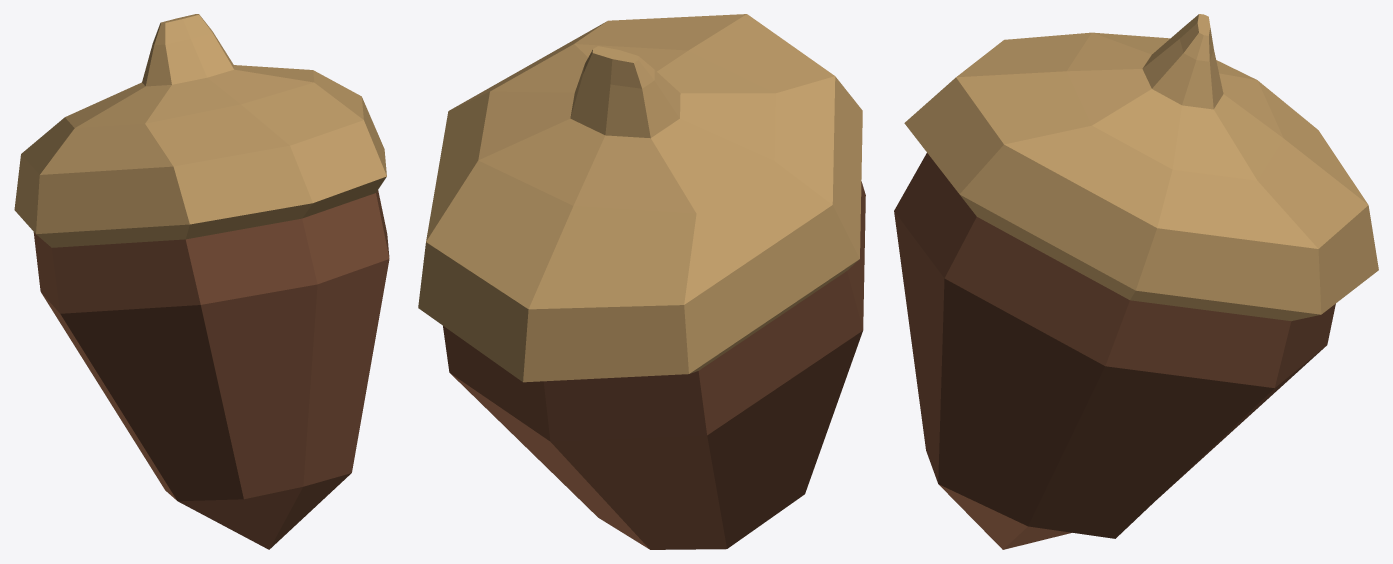
File: Acorn.fbx
3 views of the same model, side by side, from view 1: azimuth 30°, elevation 25°; view 2: azimuth 150°, elevation 25°; view 3: azimuth 270°, elevation 25° (orthographic). The views are drawn at different scales.
Visible parts, largest first — view 1: Cube; view 2: Cube; view 3: Cube.
Part boxes in pixels (bbox=[...]): Cube: bbox=[14, 14, 389, 549]; Cube: bbox=[418, 14, 865, 549]; Cube: bbox=[894, 14, 1378, 549].
Bounding box in the file's own units: 242 × 311 × 259.
